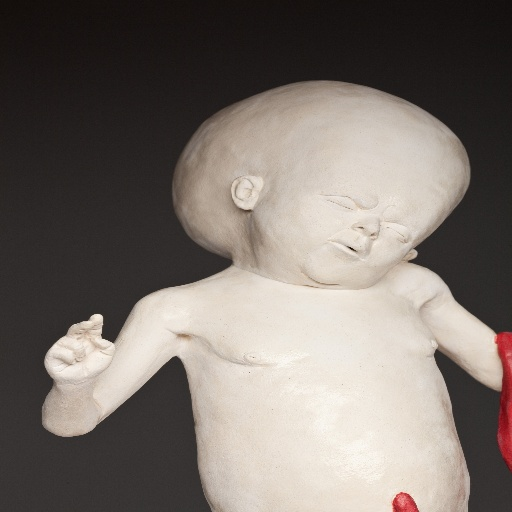hand: (56, 315, 112, 380)
